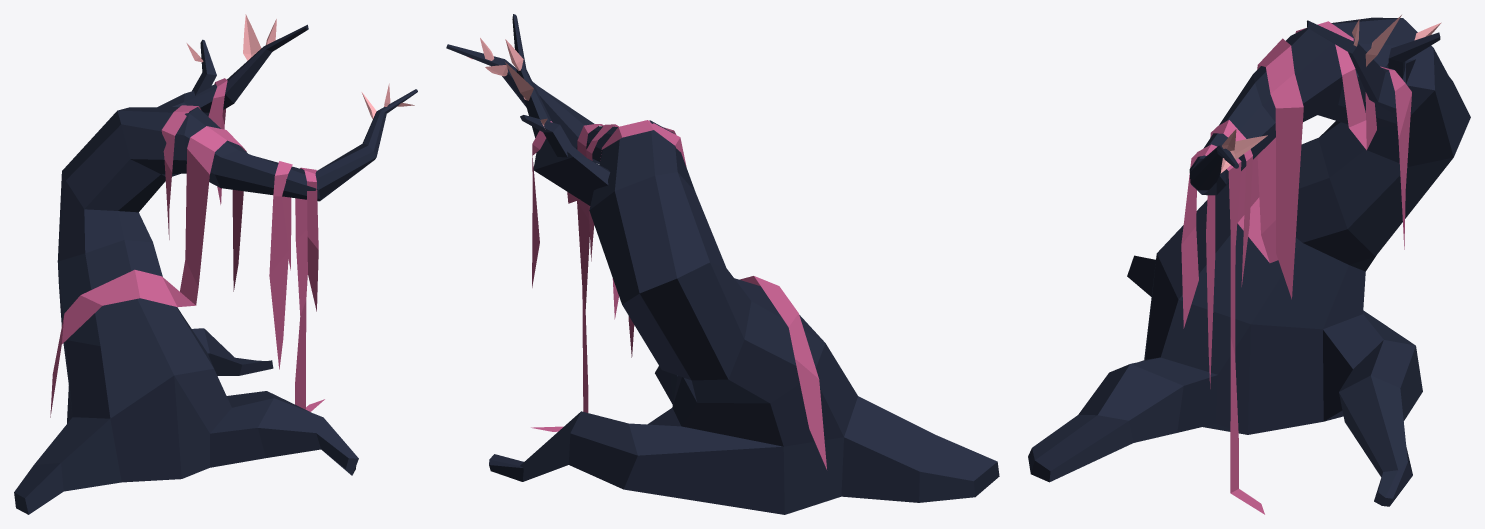
Rendered from scifi-scifi-tree-willow-big.glb.
3 views of the same model, side by side, from view 1: azimuth 30°, elevation 25°; view 2: azimuth 150°, elevation 25°; view 3: azimuth 270°, elevation 25° (orthographic). The views are drawn at different scales.
Visible parts, largest first — view 1: scifi-tree-willow-big; view 2: scifi-tree-willow-big; view 3: scifi-tree-willow-big.
Boxes of the visible parts, box(x1,y1,x2,y2) form: scifi-tree-willow-big: box(14, 14, 417, 514); scifi-tree-willow-big: box(446, 14, 999, 514); scifi-tree-willow-big: box(1028, 15, 1470, 514).
Size of the model in its own units: 6.28 by 5.08 by 4.13.
